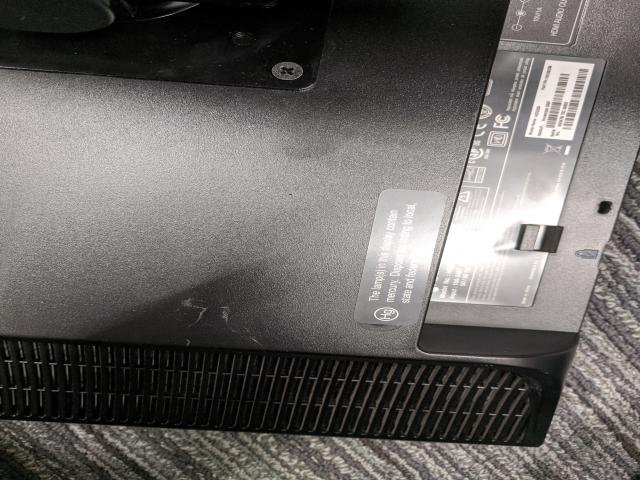CRS: (271, 60, 304, 82)
